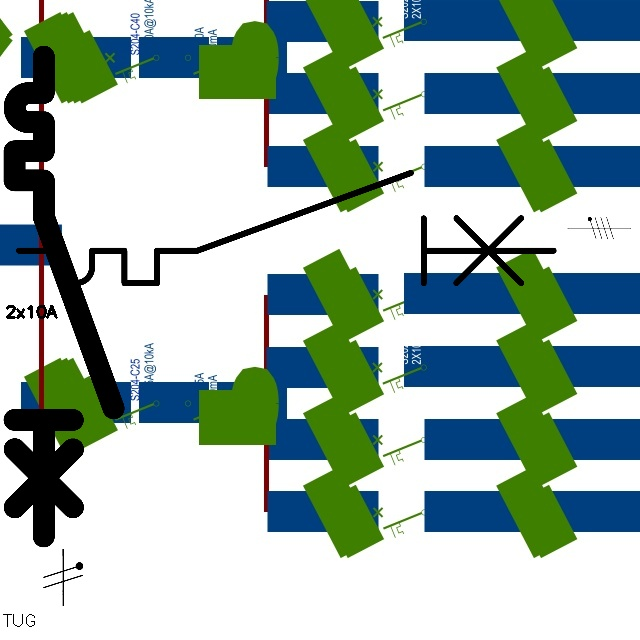interruptor_termomagnetico: (5, 159, 567, 297), (2, 44, 125, 549)
